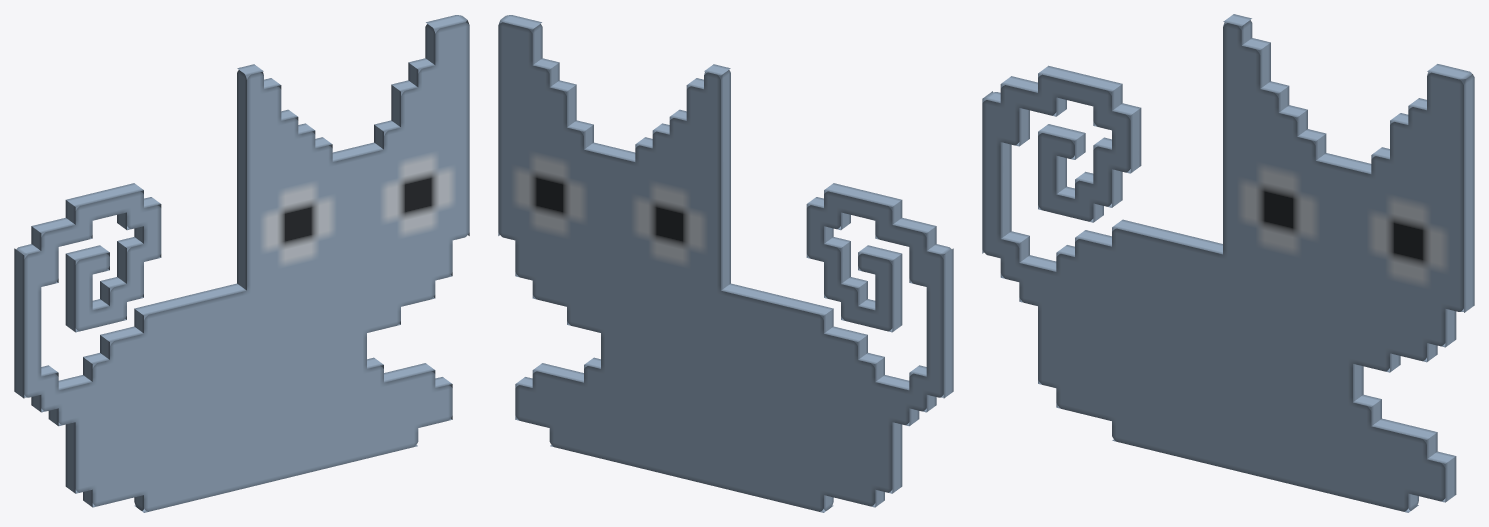
The model's file is cat3G.fbx.
3 views of the same model, side by side, from view 1: azimuth 30°, elevation 25°; view 2: azimuth 150°, elevation 25°; view 3: azimuth 330°, elevation 25° (orthographic). The views are drawn at different scales.
Parts seen in each view (by area): view 1: generated; view 2: generated; view 3: generated.
Part boxes in pixels (x1,y1,x2,y2): generated: (14, 15, 469, 512); generated: (498, 15, 953, 512); generated: (982, 14, 1474, 512).
Size of the model in its own units: 260 by 230 by 10.
